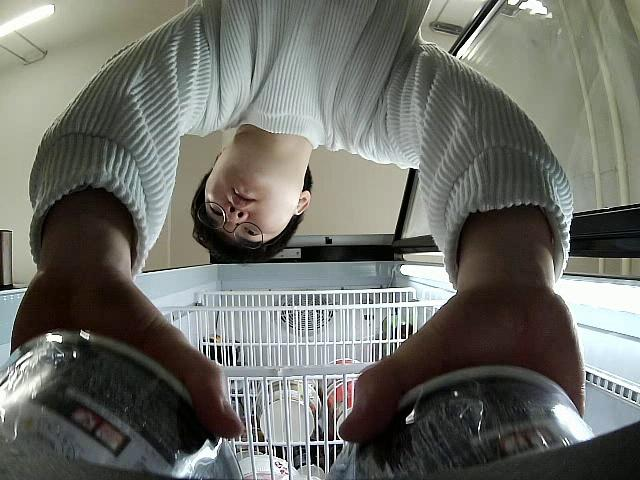00_hand: (339, 281, 587, 442), (11, 270, 246, 437)
07_buldak_L: (0, 331, 243, 480), (317, 365, 597, 480)
